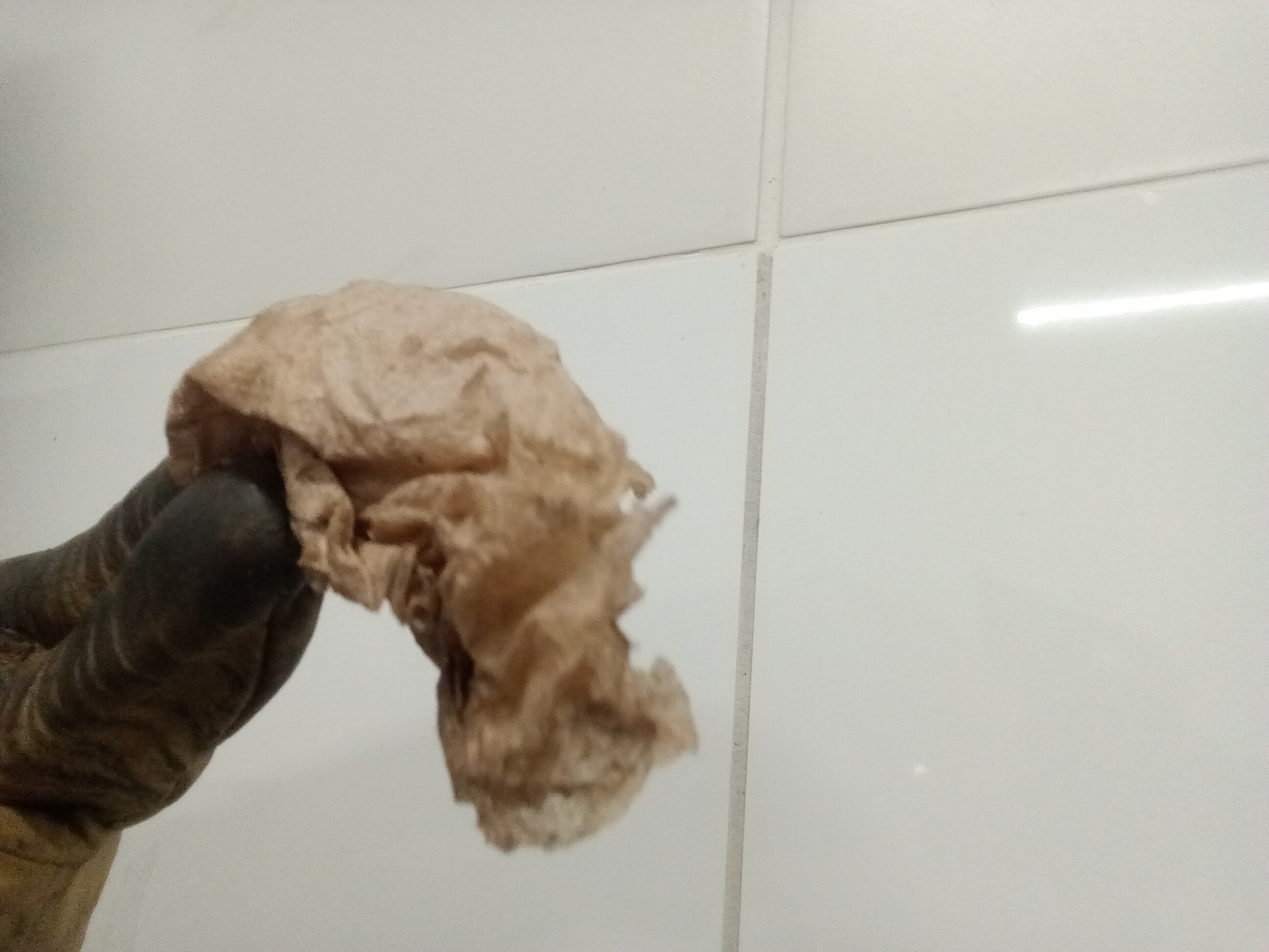Ordinario: (166, 281, 697, 851)
